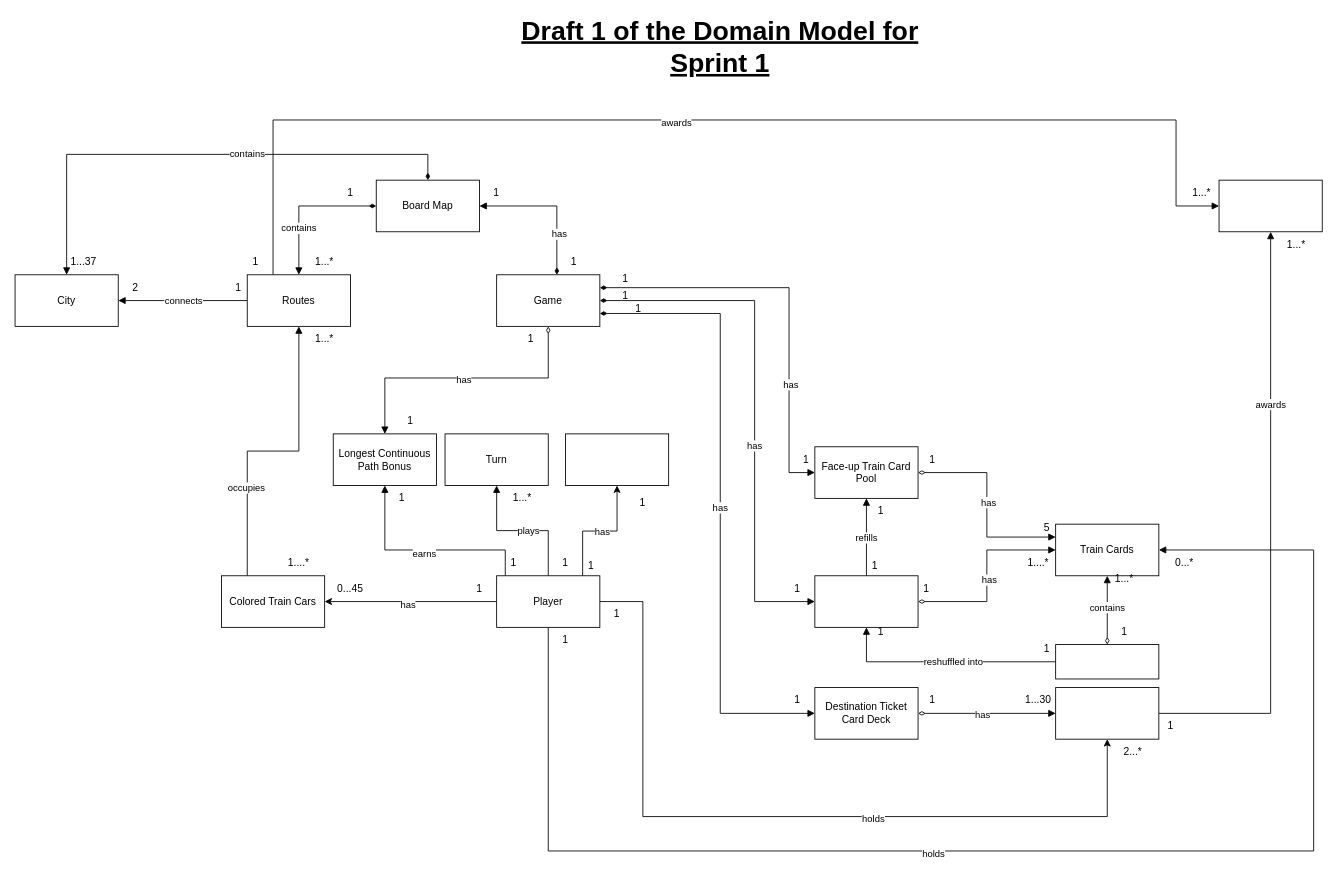
Some shapes in this 1337 by 874 pixel diagram are drawn without their labels. The centre of each missing label's shape, as x and y in pixels:
Destination Ticket Cartds: [1107,713]
Discard Pile: [1107,661]
Points: [1270,205]
Total Score: [617,459]
Train Card Deck: [866,601]
